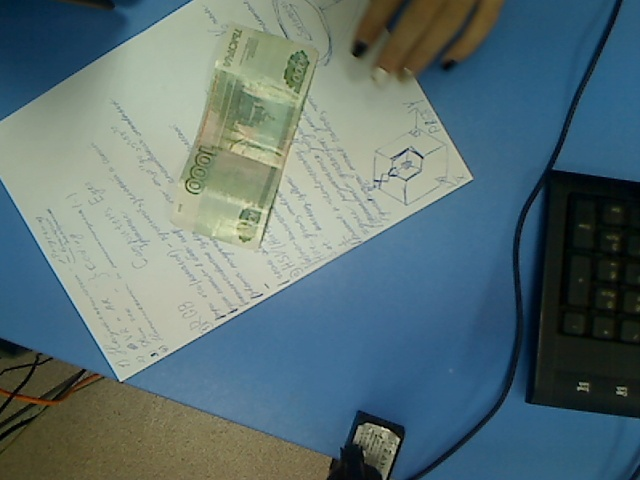banknotes: (165, 18, 322, 255)
